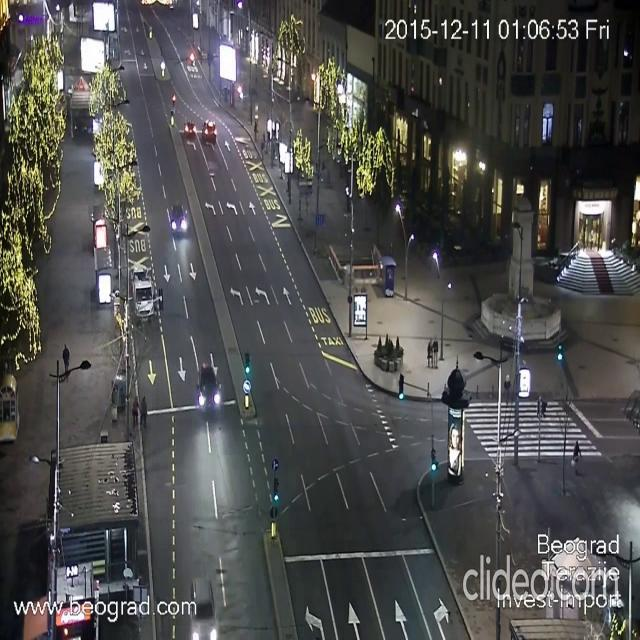car: (188, 576, 218, 639), (196, 363, 222, 413), (166, 203, 188, 233), (201, 118, 217, 144)
truck: (135, 266, 155, 322)
